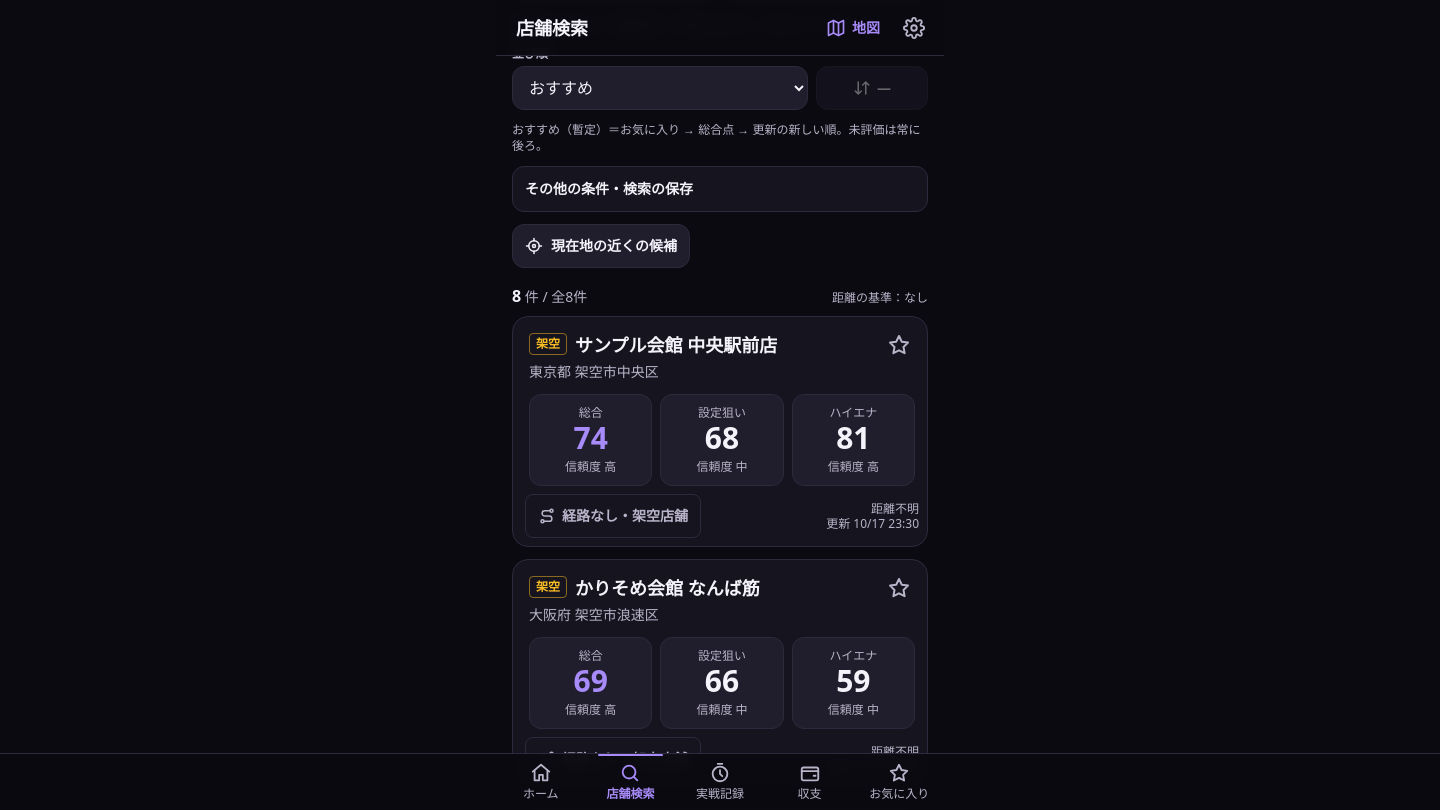
Test case: 画面遷移 › 一覧 → 詳細に移動し、根拠が表示される
This screenshot has width=1440, height=810.
(page scrolled)
Click the link "サンプル会館 中央駅前店": click(720, 405) [513,317,927,494]
(page scrolled)
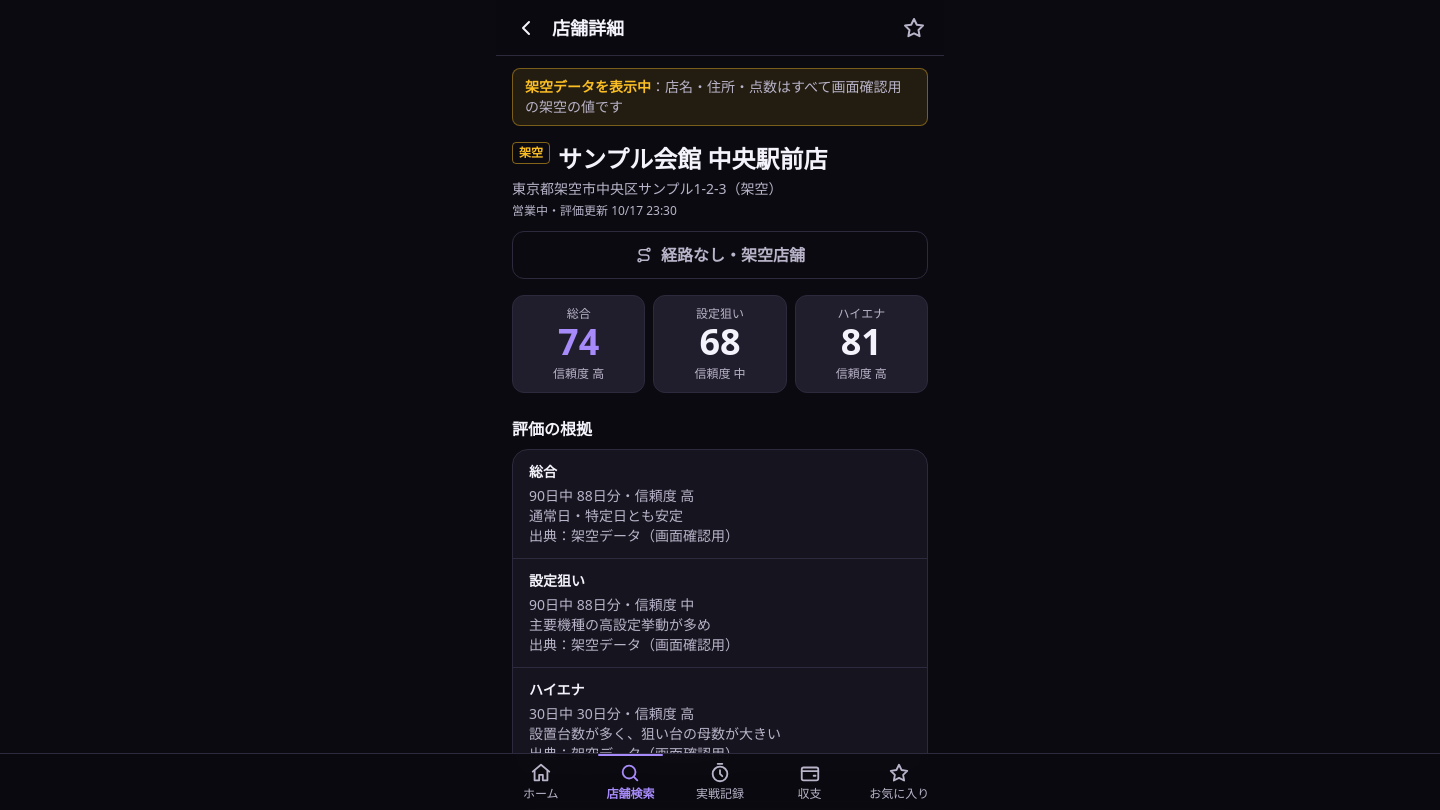
expect the heading "サンプル会館 中央駅前店" is shown: met, box [558,142,828,175]
expect the text "出典：架空データ" is shown 3 times: met, box [529,486,739,545]; [529,595,739,654]; [529,704,781,763]
